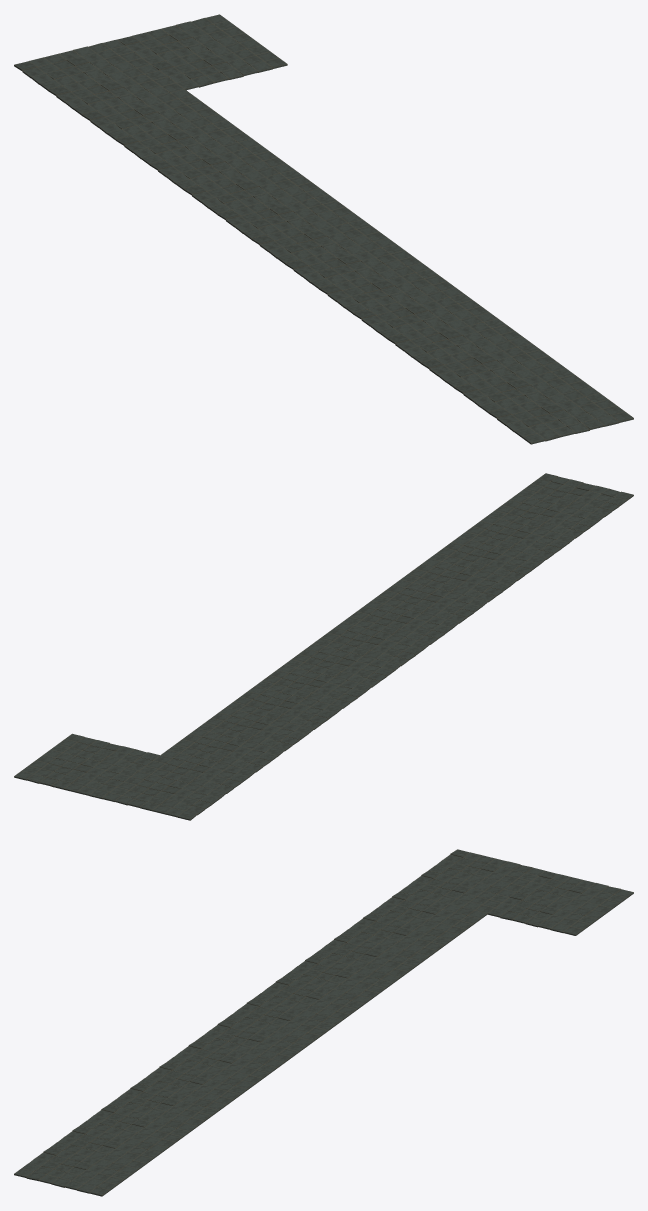
Rendered from map_003_tile.fbx.
3 views of the same model, one above another, from view 1: azimuth 30°, elevation 25°; view 2: azimuth 150°, elevation 25°; view 3: azimuth 330°, elevation 25° (orthographic). The views are drawn at different scales.
Parts seen in each view (by area): view 1: tile_004.019; view 2: tile_004.019; view 3: tile_004.019.
Boxes of the visible parts, <box> form: tile_004.019: <box>14,14,633,444</box>; tile_004.019: <box>14,473,633,820</box>; tile_004.019: <box>14,849,633,1196</box>.
Bounding box in the file's own units: 12189 × 37.7 × 2800.
